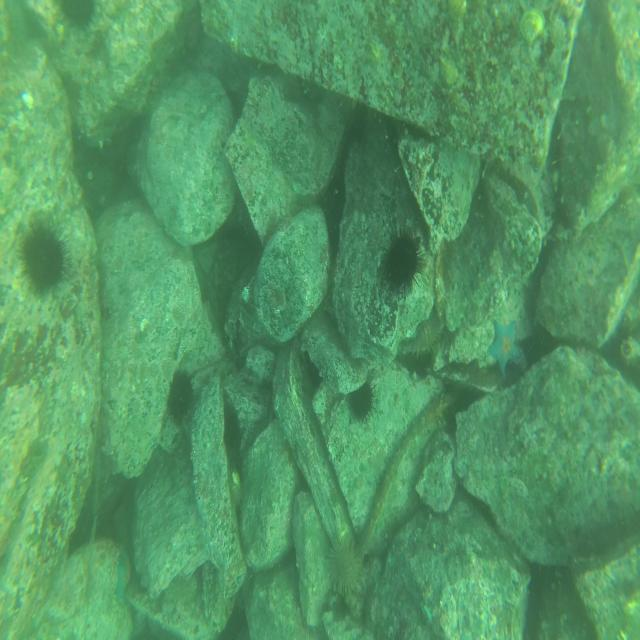echinus: (20, 222, 66, 294), (381, 225, 419, 295), (167, 371, 192, 425), (347, 382, 374, 422)
starfish: (486, 318, 524, 378)
